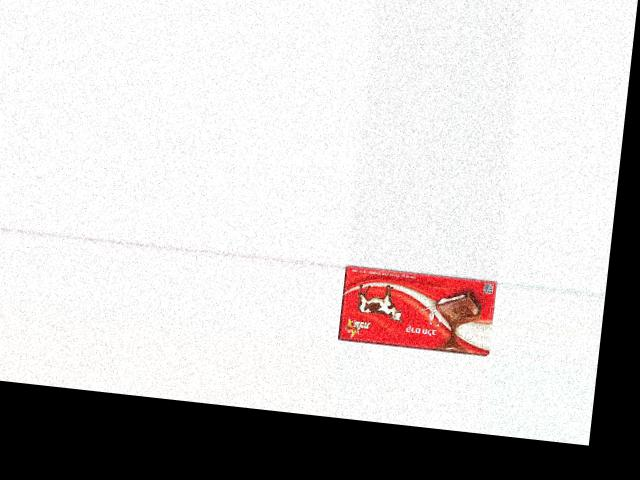chocolate: (334, 263, 497, 356)
